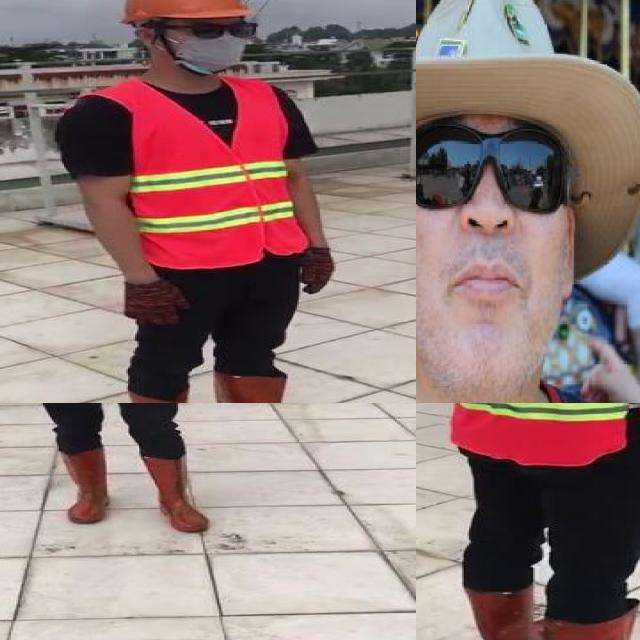boots: (141, 456, 210, 533), (461, 585, 545, 640), (58, 441, 112, 524), (215, 370, 332, 403), (541, 607, 640, 640)
face_mask: (169, 15, 258, 76)
face_nomask: (416, 130, 562, 318)
glasses: (416, 116, 593, 221), (172, 13, 265, 44)
hand_glove: (121, 280, 190, 327), (306, 245, 336, 294)
hand_noglove: (569, 329, 640, 403)
head_helmet: (111, 0, 260, 25)
head_nohelmet: (416, 0, 593, 136)
person: (47, 0, 361, 403), (416, 403, 640, 640), (0, 403, 228, 538)
vest: (121, 72, 306, 267), (417, 403, 640, 467)
